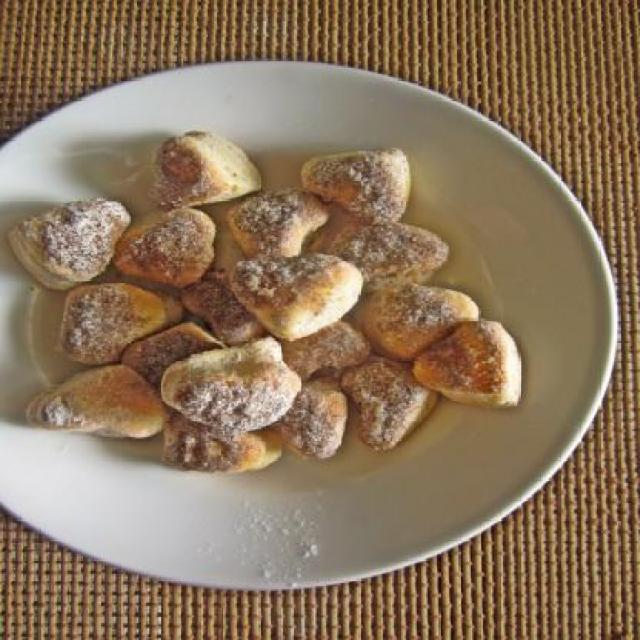Bread: (11, 129, 516, 474), (114, 209, 214, 288)
